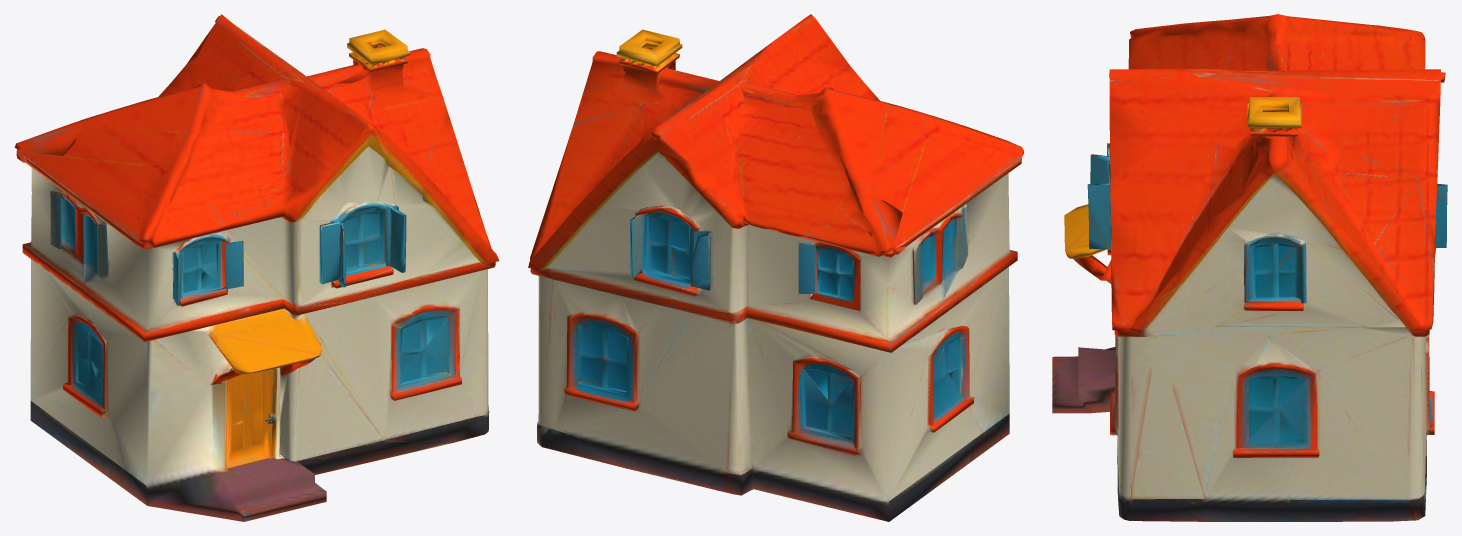
Rendered from house-a-512.glb.
3 views of the same model, side by side, from view 1: azimuth 30°, elevation 25°; view 2: azimuth 150°, elevation 25°; view 3: azimuth 270°, elevation 25° (orthographic). The views are drawn at different scales.
Size of the model in its own units: 1.9 by 1.8 by 1.65.
1 material, 1 textured.
